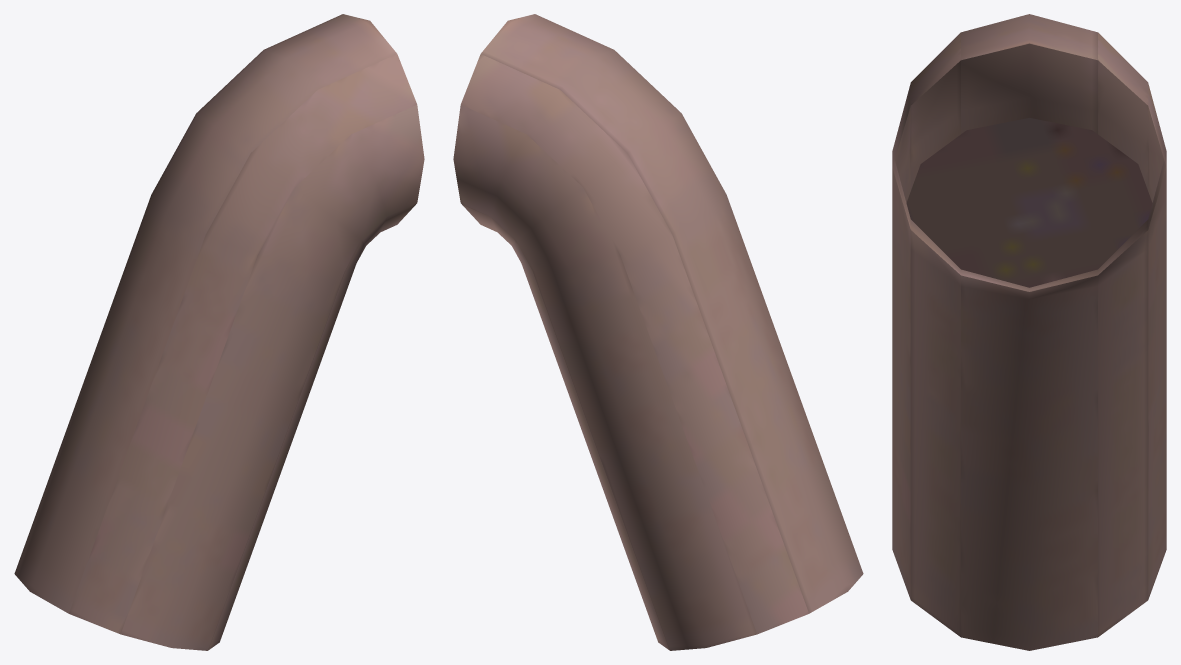
The model's file is props_farm_gutter_pipe_end.glb.
The picture shows the model from 3 angles, left to right: view 1: azimuth 30°, elevation 25°; view 2: azimuth 150°, elevation 25°; view 3: azimuth 270°, elevation 25°; orthographic projection. The views are drawn at different scales.
Parts seen in each view (by area): view 1: models/props_farm/gutter_pipe_end; view 2: models/props_farm/gutter_pipe_end; view 3: models/props_farm/gutter_pipe_end.
Part boxes in pixels (x1,y1,x2,y2): models/props_farm/gutter_pipe_end: [14, 14, 424, 650]; models/props_farm/gutter_pipe_end: [453, 14, 863, 650]; models/props_farm/gutter_pipe_end: [892, 14, 1166, 650].
Bounding box in the file's own units: 21.64 × 34.26 × 12.
Materials: 1 (1 with a texture image).
